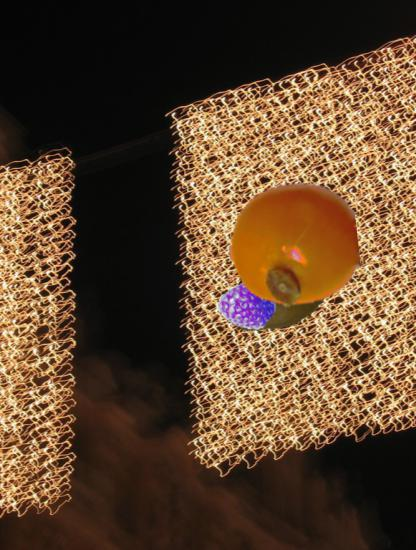Papaya: (225, 233, 332, 340)
Physalis: (229, 180, 358, 309)
Raspberry: (222, 277, 276, 331)
